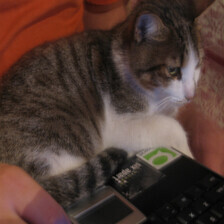laptop: (8, 132, 224, 224)
